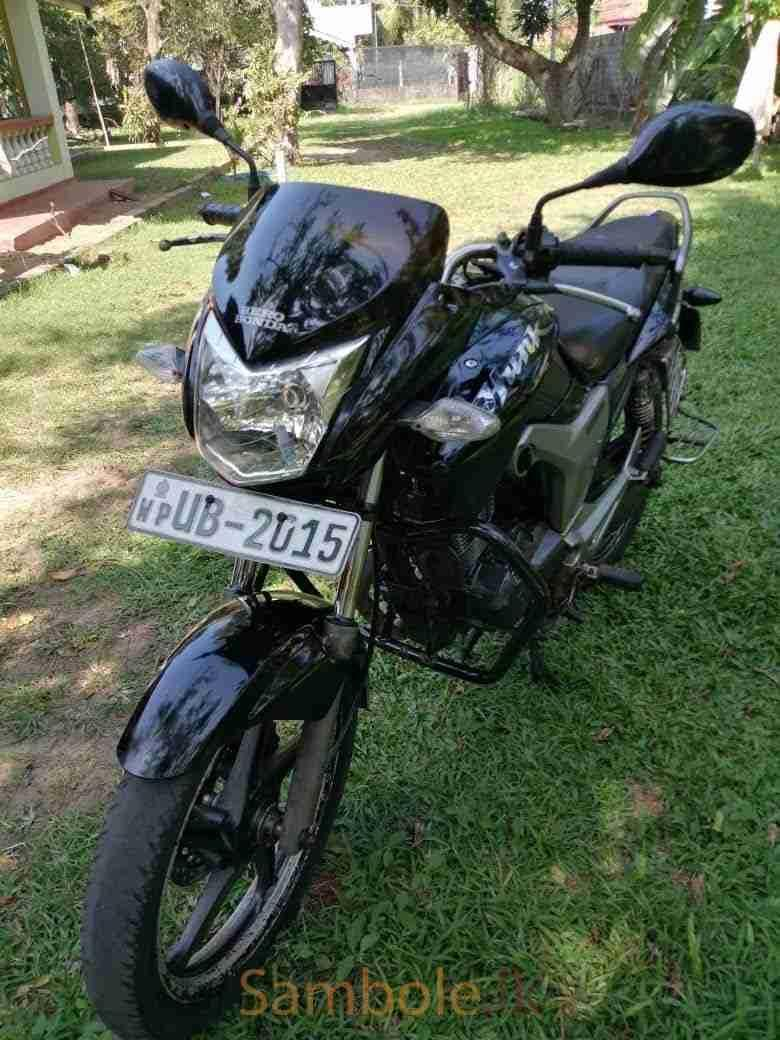motorbike: (79, 57, 754, 1037)
